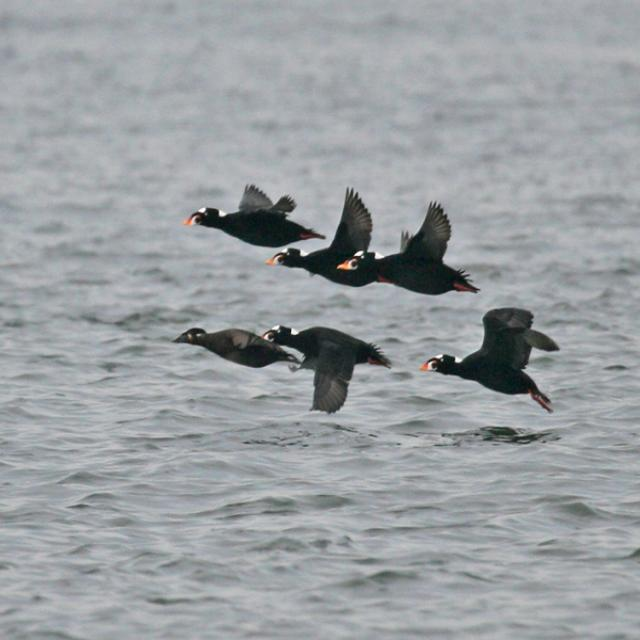bird: (341, 194, 486, 298), (419, 312, 564, 403), (273, 175, 371, 293), (264, 328, 391, 418), (180, 184, 326, 261), (171, 326, 297, 373)
